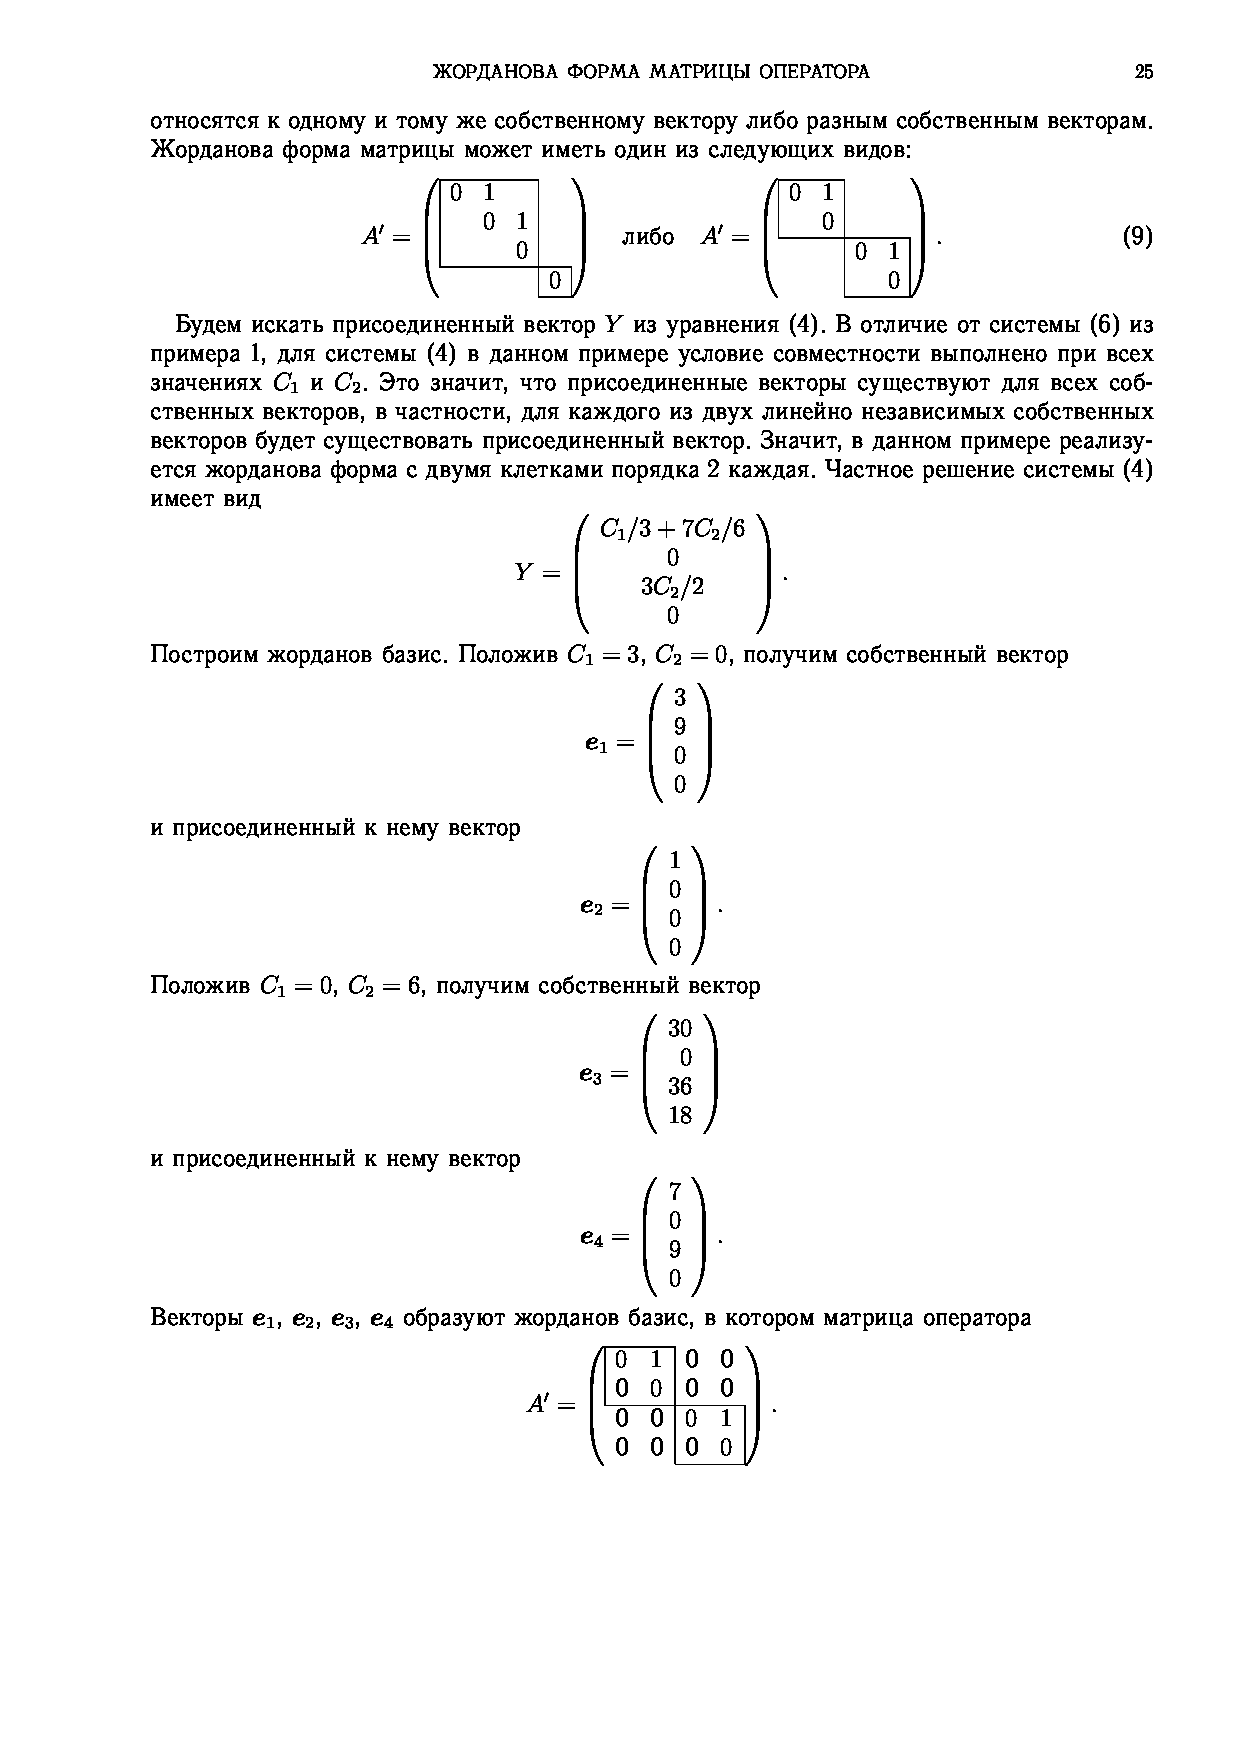pMatrix: (570, 509, 777, 641), (760, 173, 929, 307), (586, 1343, 762, 1471), (424, 176, 590, 305), (641, 1011, 721, 1135), (644, 682, 715, 811), (639, 845, 709, 972), (640, 1176, 709, 1300)
